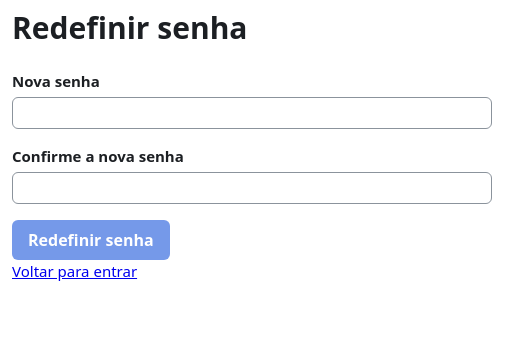
Test: resultado › token expirado mostra a mensagem da API e oferece pedir outro
Type "senha-nova-123" into the password field labelled "Nova senha" at (252, 113), box [12,97,492,129]
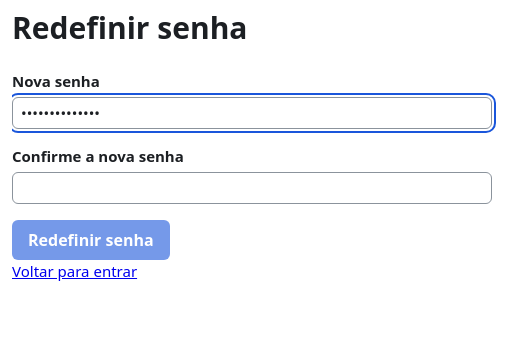
Type "senha-nova-123" into the password field labelled "Confirme a nova senha" at (252, 188), box [12,172,492,204]
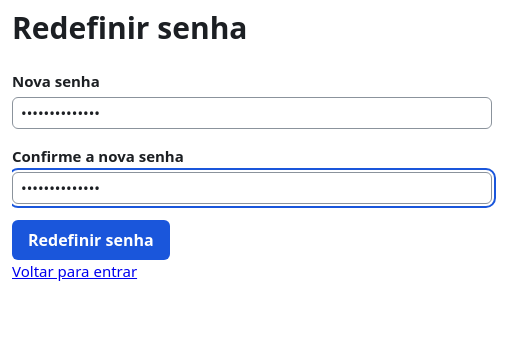
Click the button "Redefinir senha" at (91, 240), box [12,220,170,260]
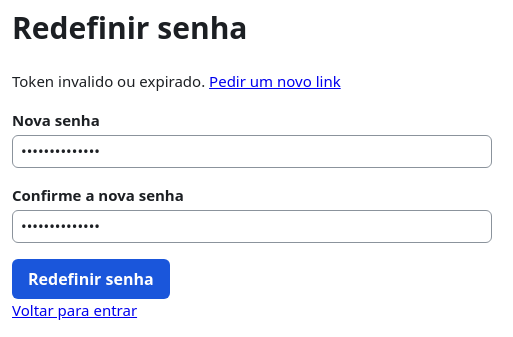
Expected: the message shows "Token invalido ou expirado.", [12,71,205,91]
Expected: the link "Pedir um novo link" is shown, [209,71,341,91]
